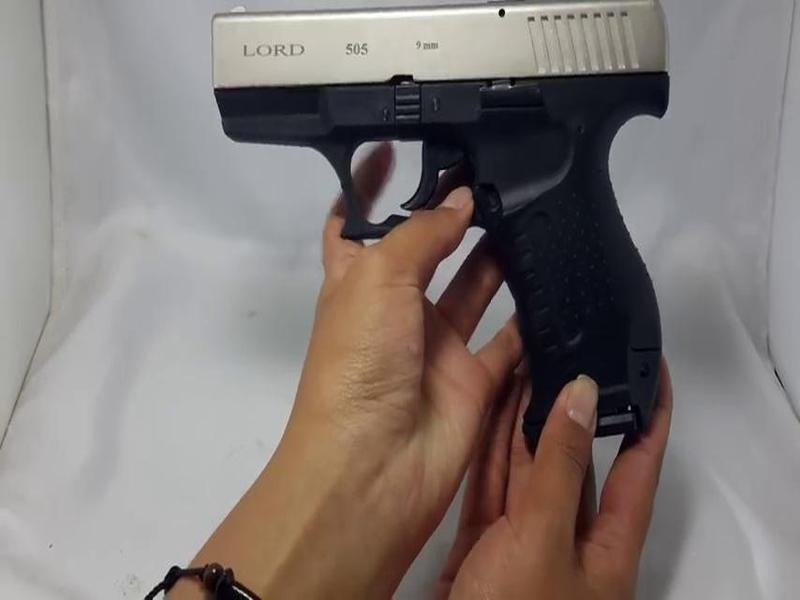Pistola: (187, 4, 678, 437)
